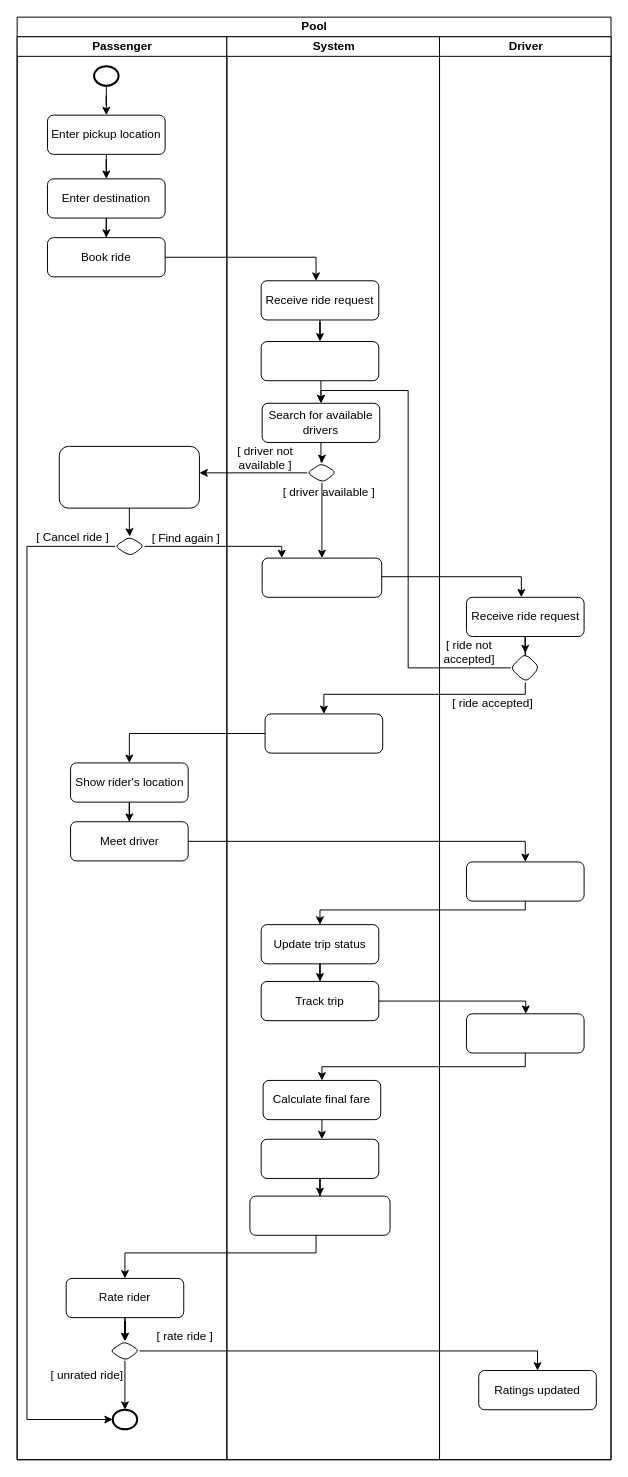
Image size: 628x1477. Some labels were removed from this diagram. The shapes that lost their labels are listed below. From the top down, each one's centre as x and y in pixels, then its label:
(319,361): Calculate estimated fare
(128,476): Receive "No driver available" notification
(321,577): Send ride request
(323,733): Notify passenger
(525,881): Start trip
(525,1033): End trip
(319,1158): Process Payment
(319,1215): Display trip summary
